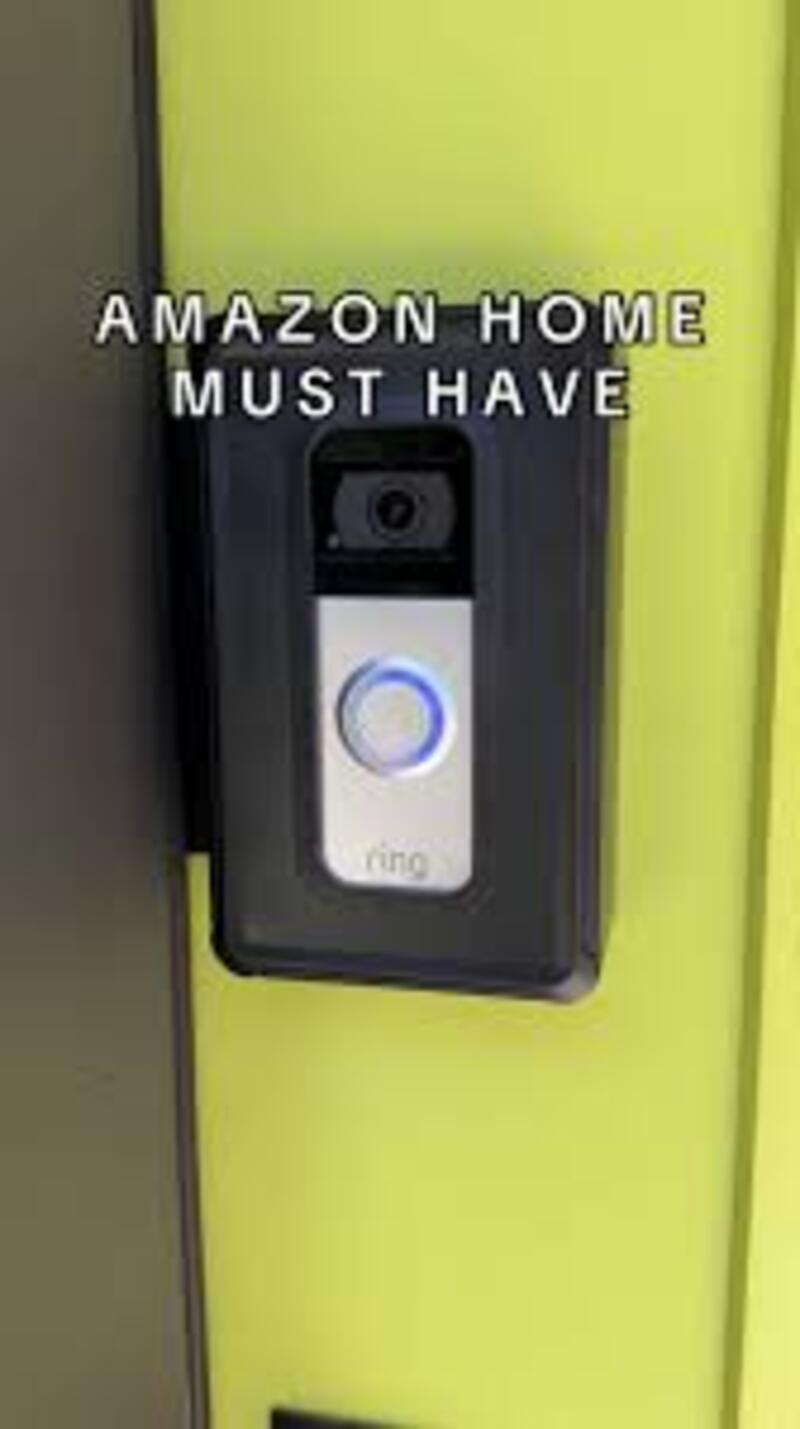doorbell: (246, 367, 537, 903)
